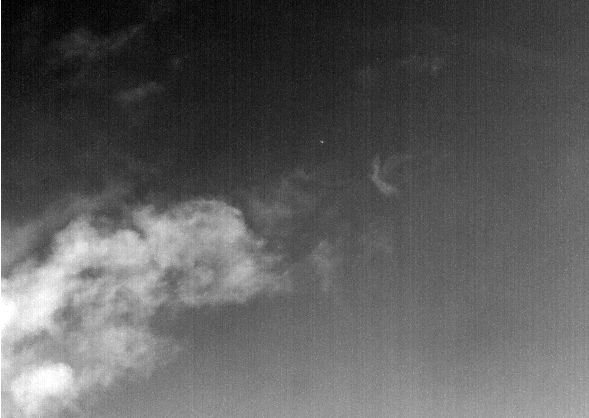dim target: (318, 138, 325, 144)
